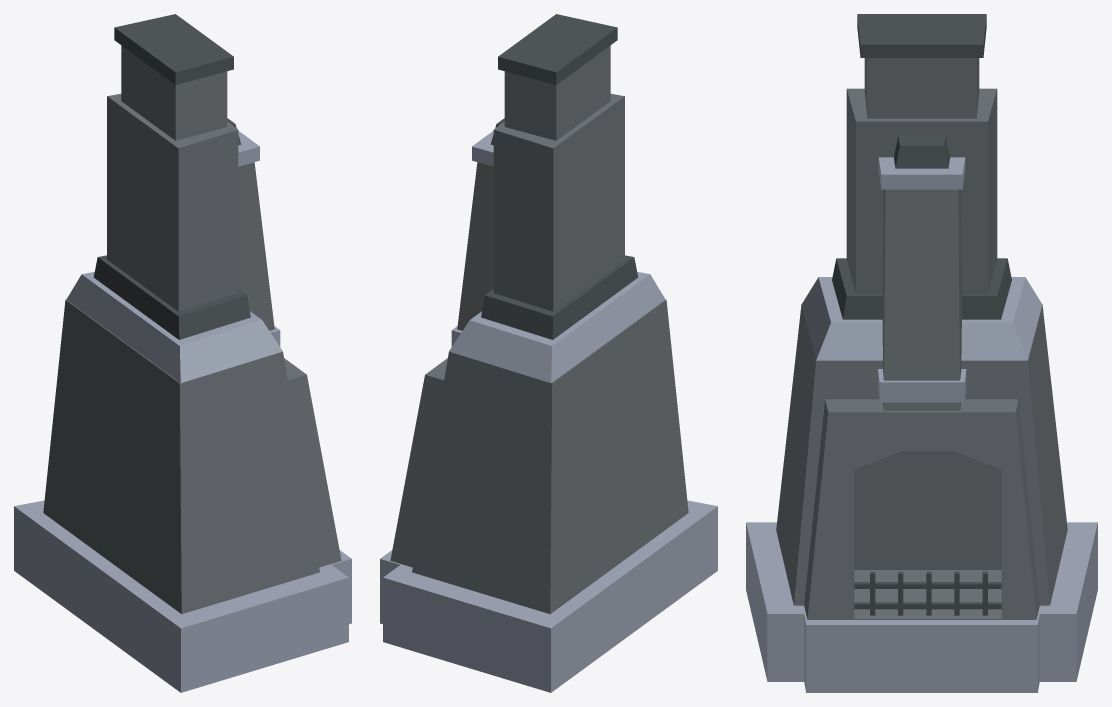
The model's file is ahi.fbx.
3 renders of one model, left to right at view 1: azimuth 30°, elevation 25°; view 2: azimuth 150°, elevation 25°; view 3: azimuth 270°, elevation 25°, orthographic. The views are drawn at different scales.
Visible parts, largest first — view 1: Cube.012; view 2: Cube.012; view 3: Cube.012.
Boxes of the visible parts, x1,y1,x2,y2 form: Cube.012: [14, 14, 351, 692]; Cube.012: [380, 14, 717, 692]; Cube.012: [746, 14, 1097, 692].
Size of the model in its own units: 224 by 612 by 325.
